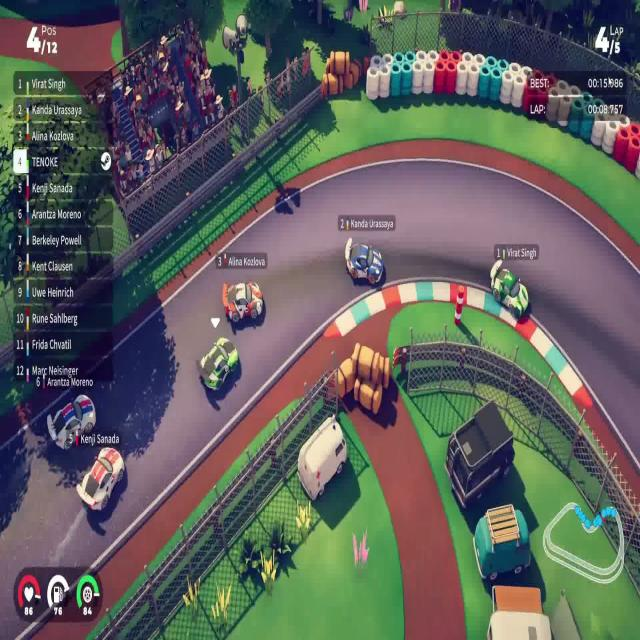car: (76, 445, 125, 513), (46, 393, 96, 451), (489, 258, 529, 320), (199, 335, 239, 392), (344, 236, 384, 286), (222, 279, 264, 324)
